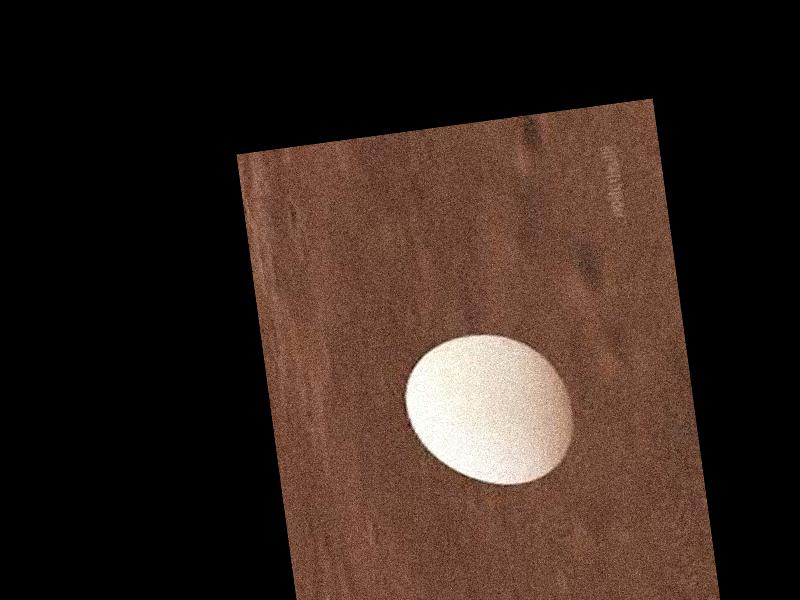Eggs: (398, 323, 580, 498)
